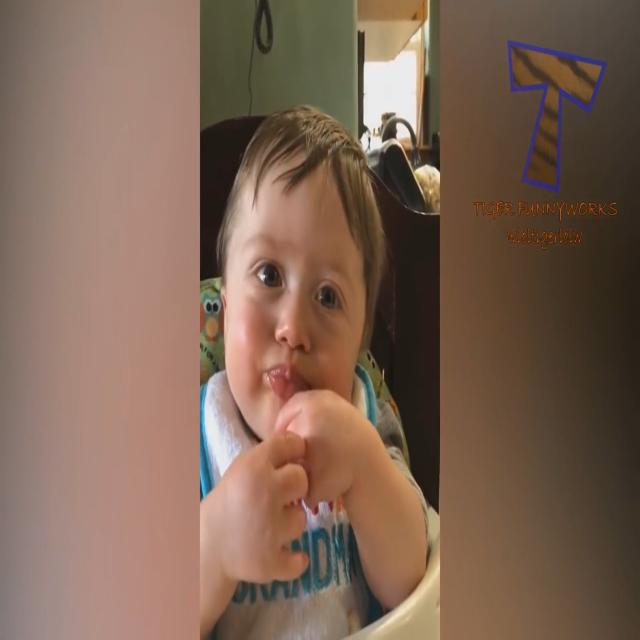safe: (222, 97, 371, 611)
